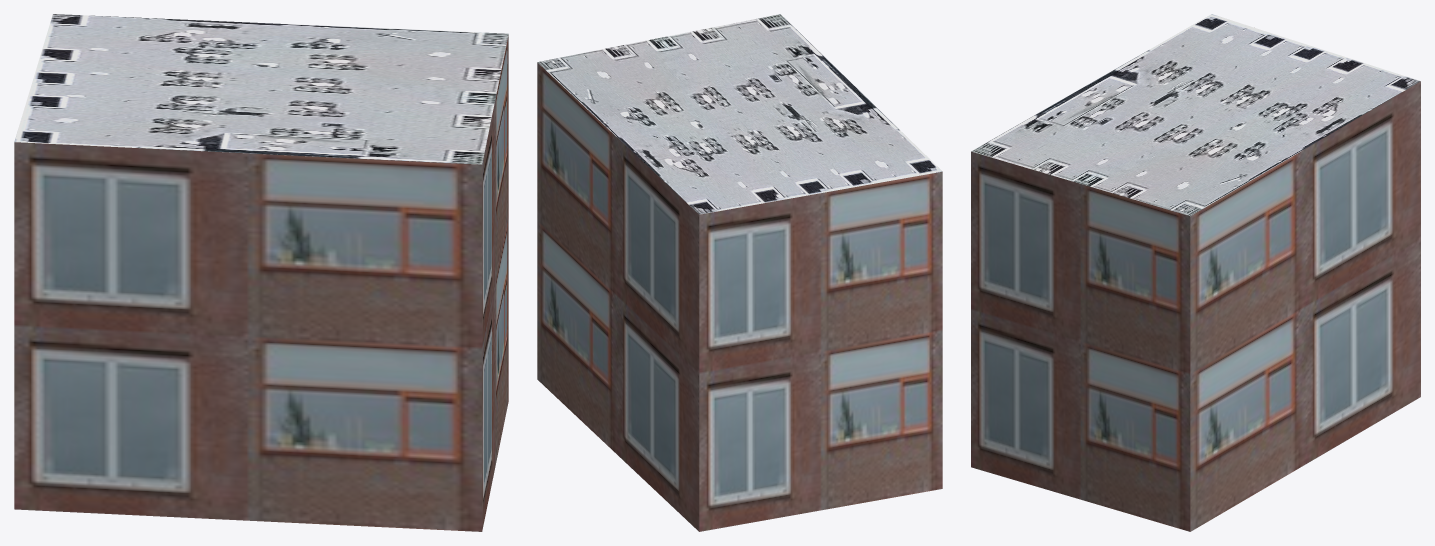
File: ResTex__1225.fbx
The picture shows the model from 3 angles, left to right: view 1: azimuth 30°, elevation 25°; view 2: azimuth 150°, elevation 25°; view 3: azimuth 270°, elevation 25°; orthographic projection. The views are drawn at different scales.
Visible parts, largest first — view 1: CityEngineMaterial_19_m, CityEngineMaterial_8_m; view 2: CityEngineMaterial_19_m, CityEngineMaterial_8_m; view 3: CityEngineMaterial_19_m, CityEngineMaterial_8_m.
Boxes of the visible parts, x1=… form: CityEngineMaterial_19_m: x1=14, y1=35, x2=508, y2=531; CityEngineMaterial_8_m: x1=14, y1=14, x2=508, y2=164; CityEngineMaterial_19_m: x1=537, y1=62, x2=942, y2=531; CityEngineMaterial_8_m: x1=537, y1=14, x2=942, y2=214; CityEngineMaterial_19_m: x1=971, y1=81, x2=1420, y2=531; CityEngineMaterial_8_m: x1=971, y1=14, x2=1420, y2=216.
Size of the model in its own units: 8.24 by 6 by 7.75.
Materials: 2 (2 with a texture image).
